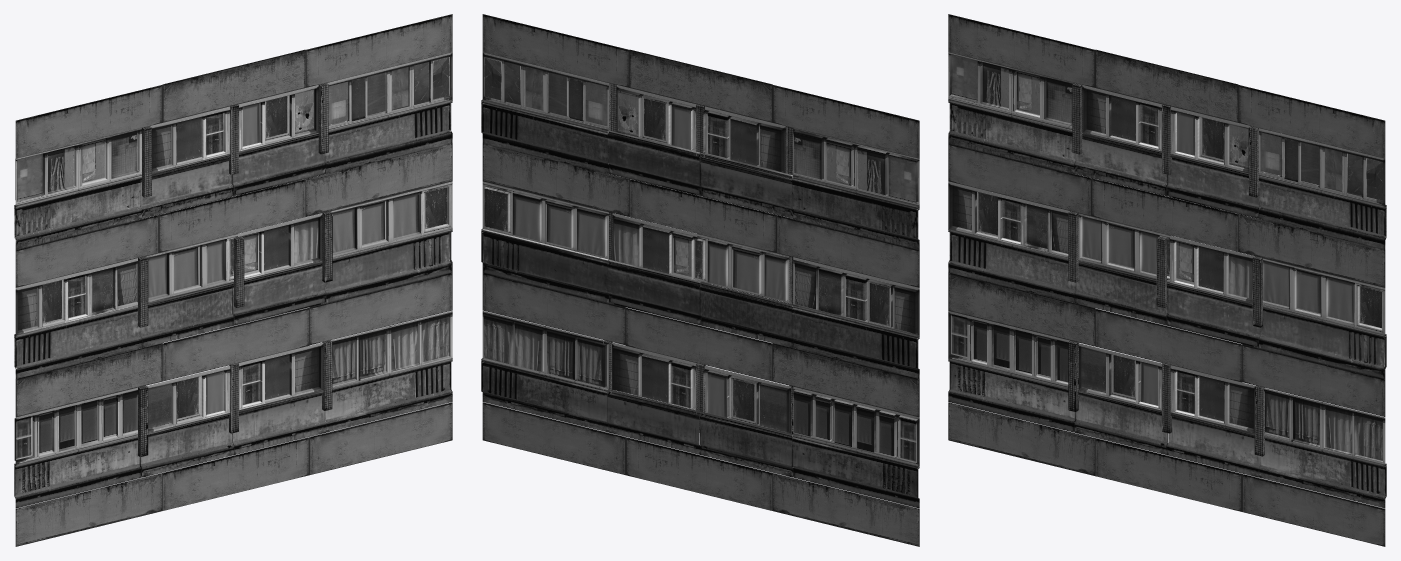
Rendered from skid_row_building_1.fbx.
3 views of the same model, side by side, from view 1: azimuth 30°, elevation 25°; view 2: azimuth 150°, elevation 25°; view 3: azimuth 330°, elevation 25° (orthographic).
Visible parts, largest first — view 1: Plane073; view 2: Plane073; view 3: Plane073.
Part boxes in pixels (box(x1,y1,x2,y2)): Plane073: box(14, 14, 452, 546); Plane073: box(481, 14, 919, 546); Plane073: box(948, 14, 1386, 546).
Bounding box in the file's own units: 689 × 643 × 22.19.
